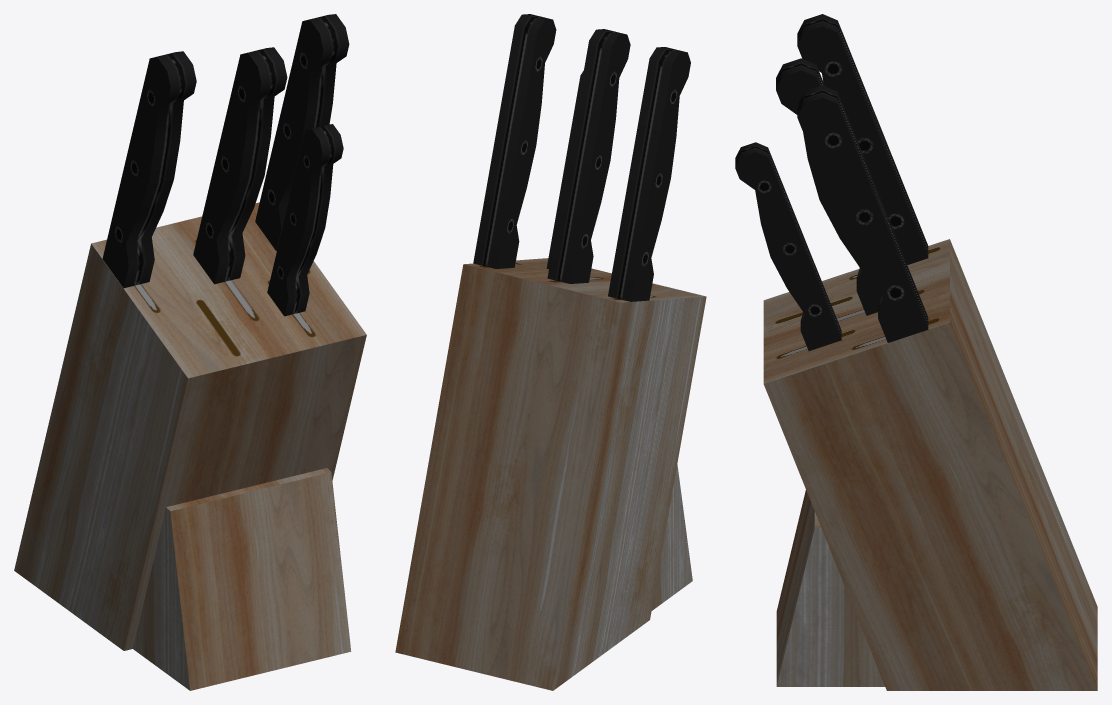
File: KnifeStand.FBX
3 renders of one model, left to right at view 1: azimuth 30°, elevation 25°; view 2: azimuth 150°, elevation 25°; view 3: azimuth 270°, elevation 25°, orthographic. The views are drawn at different scales.
Parts seen in each view (by area): view 1: KnifeStand; view 2: KnifeStand; view 3: KnifeStand.
Boxes of the visible parts, x1,y1,x2,y2 form: KnifeStand: (14,14,366,690); KnifeStand: (395,14,706,690); KnifeStand: (735,14,1097,690).
Size of the model in its own units: 10 by 33.03 by 18.3.
